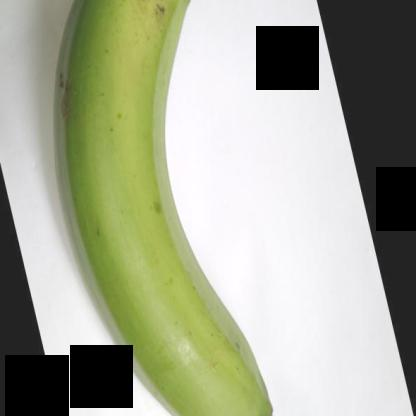freshunripe: (34, 1, 295, 415)
